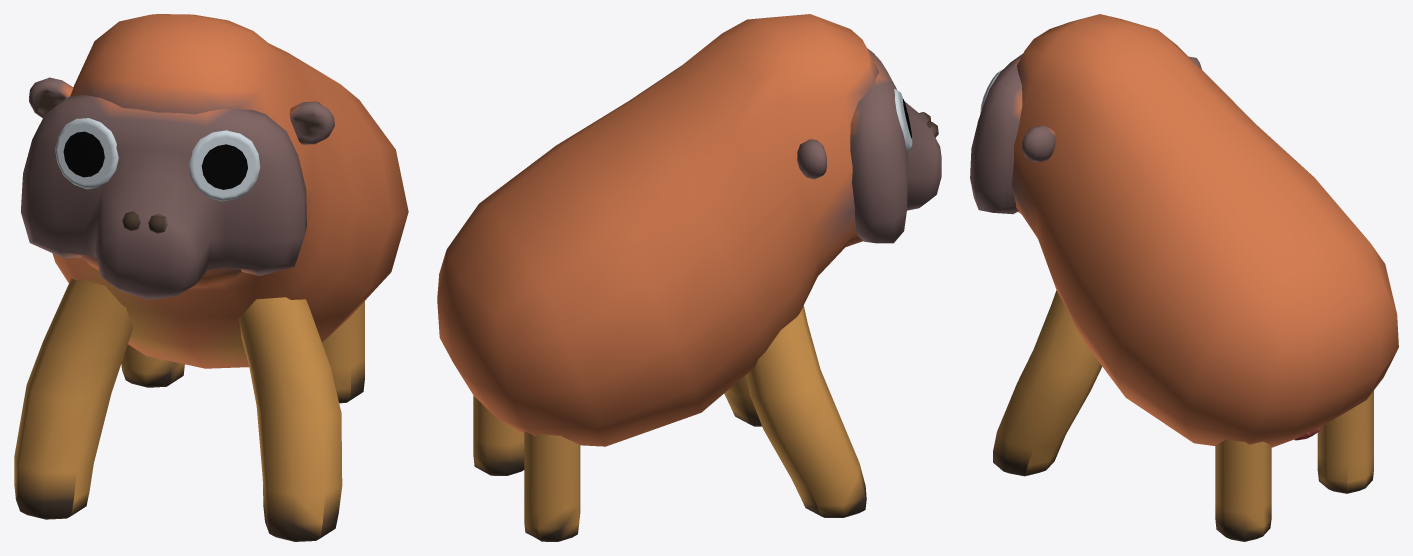
The model's file is OrangUtan.glb.
3 views of the same model, side by side, from view 1: azimuth 30°, elevation 25°; view 2: azimuth 150°, elevation 25°; view 3: azimuth 270°, elevation 25° (orthographic). The views are drawn at different scales.
Visible parts, largest first — view 1: 111; view 2: 111; view 3: 111.
Part boxes in pixels (box(x1,y1,x2,y2)): 111: box(14, 14, 408, 541); 111: box(437, 14, 941, 541); 111: box(970, 14, 1398, 541).
Bounding box in the file's own units: 0.8929 × 0.9736 × 0.921.
